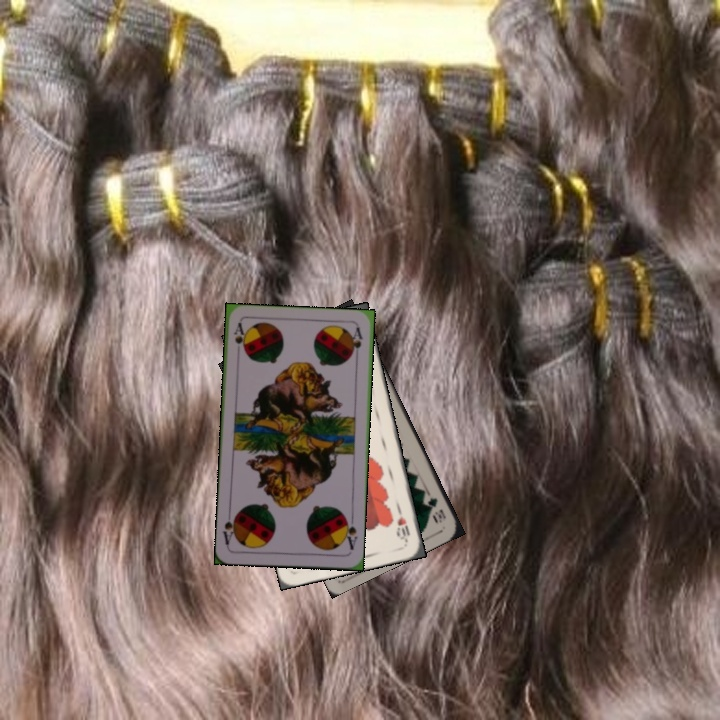G10: (423, 493, 449, 525)
H10: (393, 504, 412, 544)
SA: (340, 512, 360, 553), (230, 319, 248, 355)
